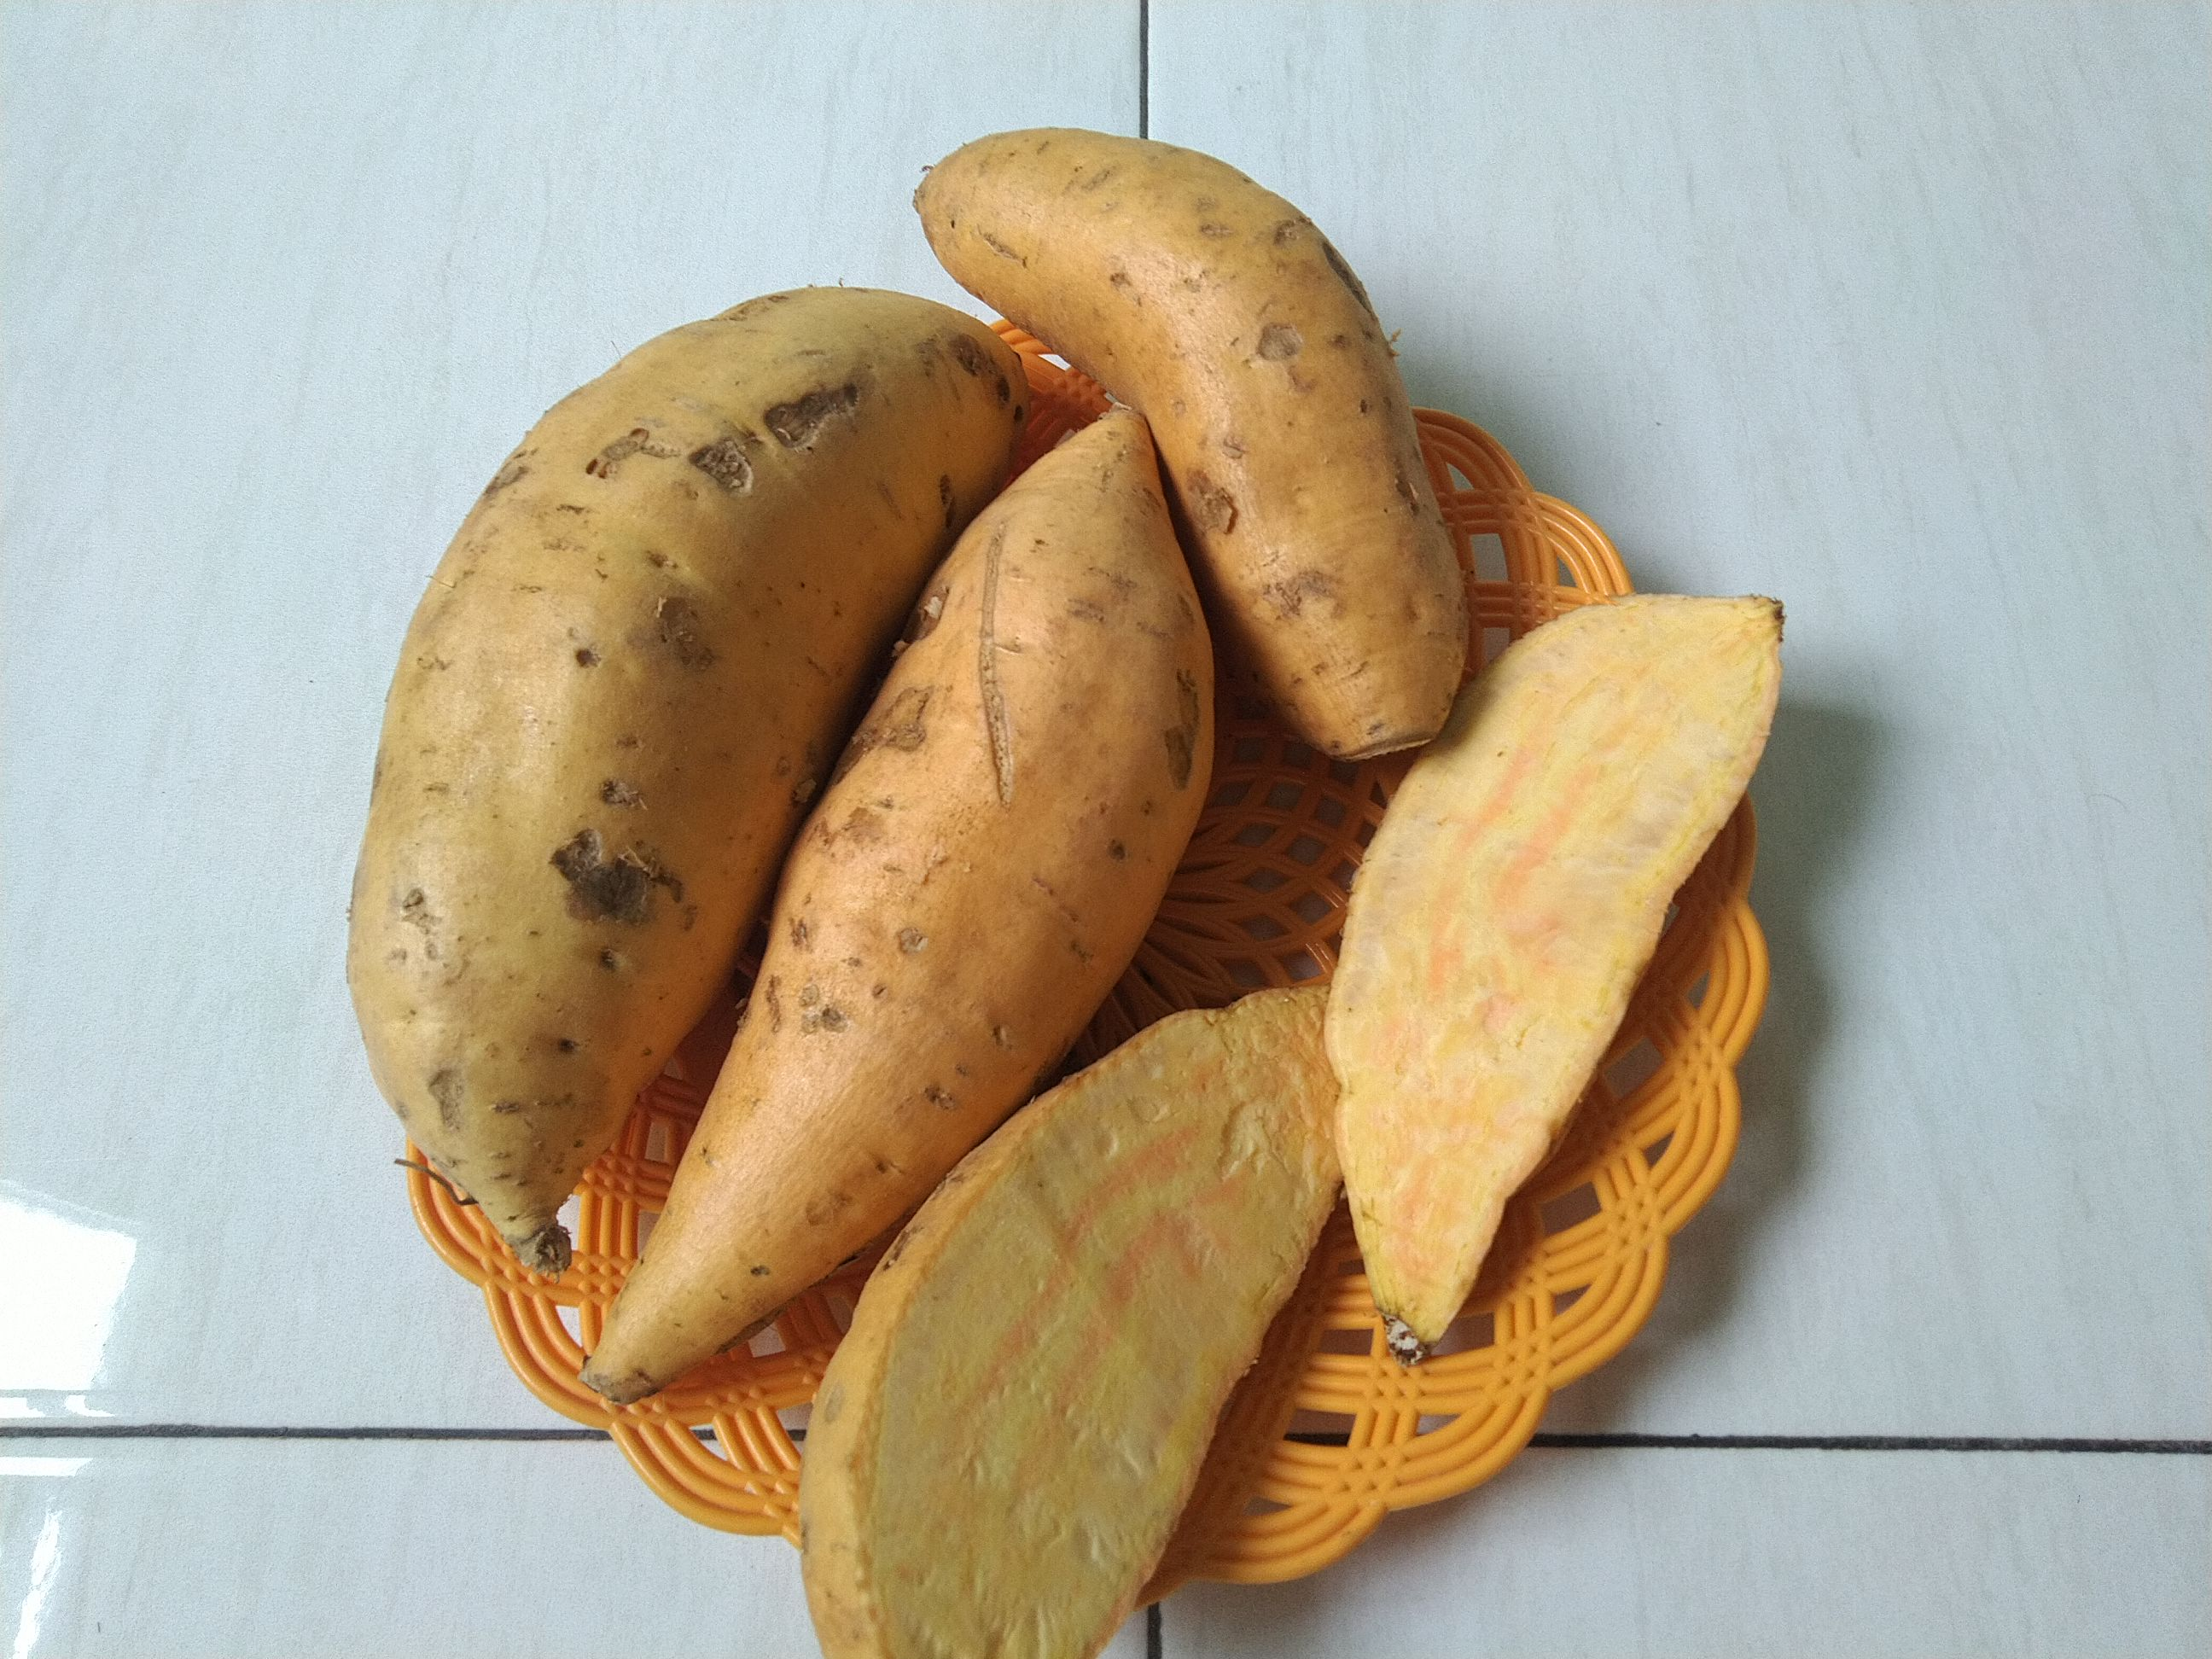ubi cilembu: (585, 399, 1308, 1427), (319, 254, 1029, 1295), (1310, 572, 1851, 1396), (786, 979, 1378, 1659), (888, 117, 1467, 774)
